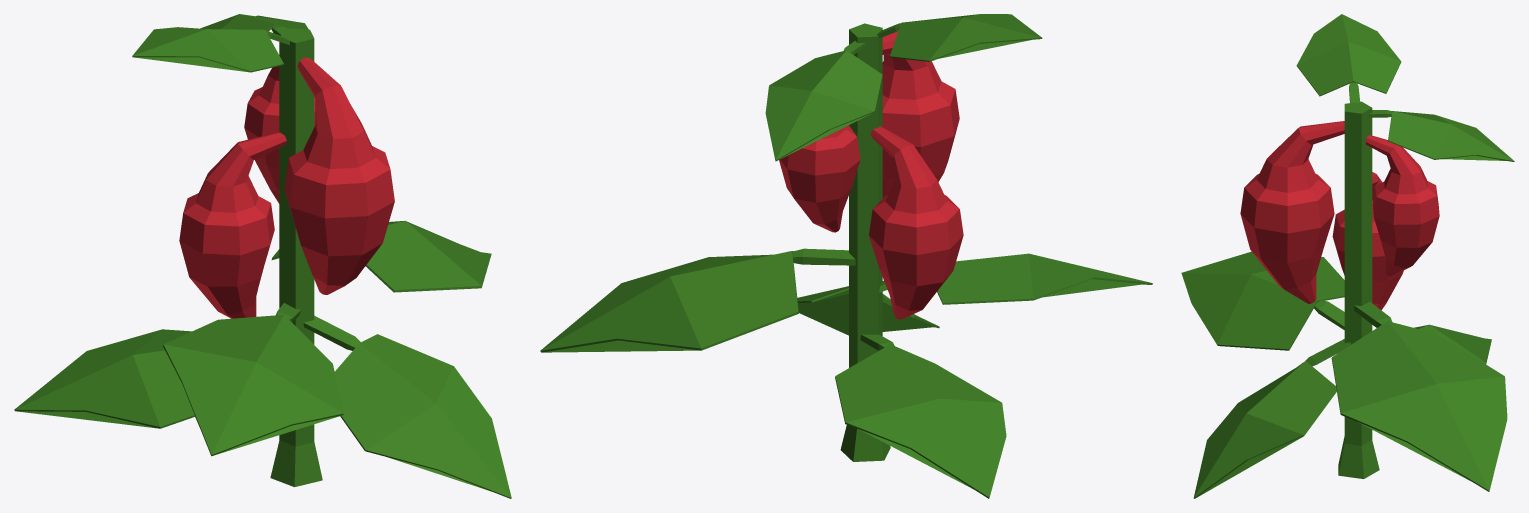
Rendered from ChiliPlant_Stage03.fbx.
The picture shows the model from 3 angles, left to right: view 1: azimuth 30°, elevation 25°; view 2: azimuth 150°, elevation 25°; view 3: azimuth 270°, elevation 25°; orthographic projection. The views are drawn at different scales.
Visible parts, largest first — view 1: ChiliPlant_Stage03; view 2: ChiliPlant_Stage03; view 3: ChiliPlant_Stage03.
Part boxes in pixels (x1,y1,x2,y2): ChiliPlant_Stage03: [14, 14, 511, 498]; ChiliPlant_Stage03: [540, 14, 1152, 498]; ChiliPlant_Stage03: [1181, 14, 1514, 498].
Size of the model in its own units: 278 by 270 by 209.
